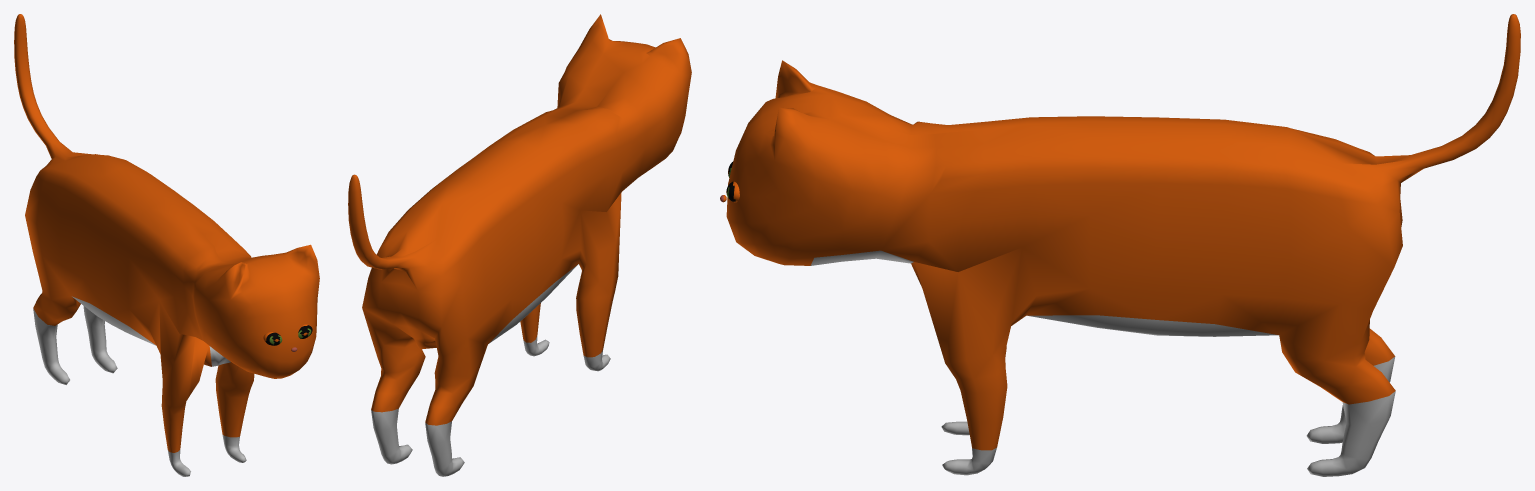
The model's file is orange_cat.obj.
The picture shows the model from 3 angles, left to right: view 1: azimuth 30°, elevation 25°; view 2: azimuth 150°, elevation 25°; view 3: azimuth 270°, elevation 25°; orthographic projection. The views are drawn at different scales.
Parts seen in each view (by area): view 1: cat_Cube.005; view 2: cat_Cube.005; view 3: cat_Cube.005.
Boxes of the visible parts, x1=… form: cat_Cube.005: x1=14, y1=14, x2=319, y2=476; cat_Cube.005: x1=348, y1=14, x2=691, y2=476; cat_Cube.005: x1=720, y1=14, x2=1520, y2=476.
Size of the model in its own units: 0.7612 by 2.22 by 3.61.
